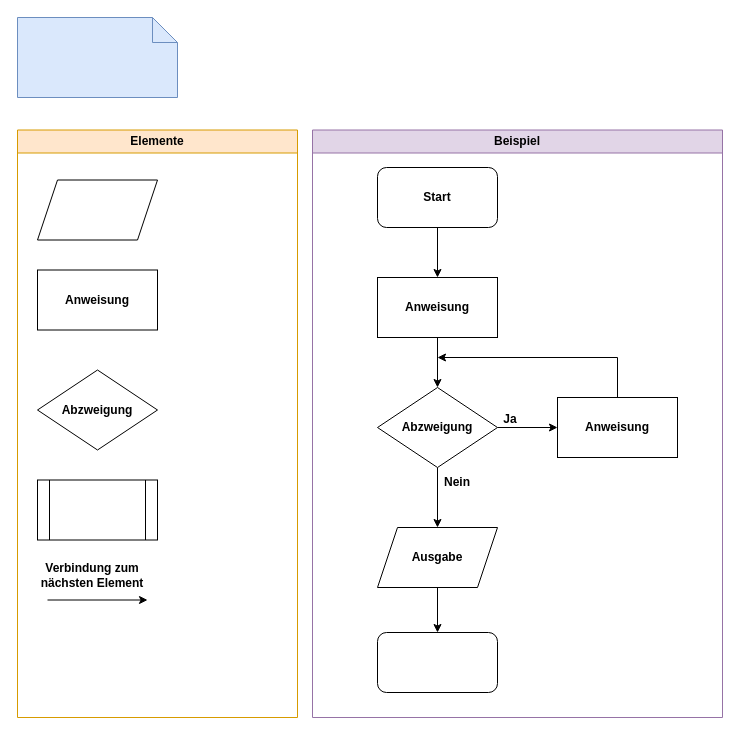
Image size: 740x735. Some labels were removed from this diagram. The shapes that lost their labels are listed below. From the top down, each one's centre as x and y in pixels, then its label:
At (97,57): "Programmablaufplan (PAP)".
At (97,209): "Ein- / Ausgabe".
At (97,509): "Unterprogramm".
At (437,662): "Ende".
